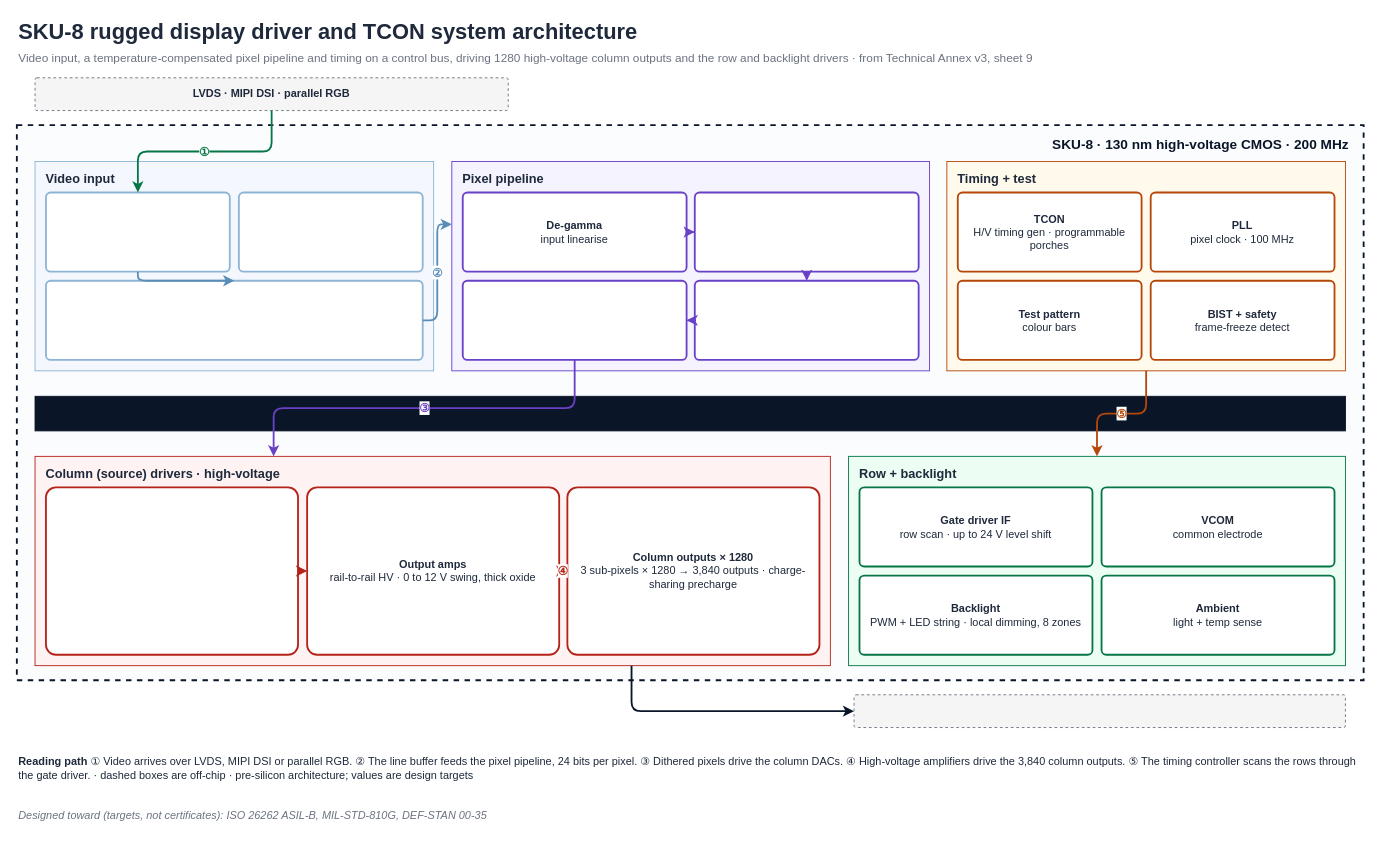
Image size: 1380x841. Some labels were removed from this diagram. The shapes that lost their labels are listed below. From the top down, each one's centre as x and y in pixels, then its label:
(137,231): LVDS RX dual link · 655 Mbps per lane · SXGA 1280 × 1024 @ 60 Hz
(330,231): DSI RX four-lane MIPI DSI
(806,231): Colour 3 × 3 matrix + WP
(234,319): Line buffer dual-port SRAM · 4 lines × 1280 × 24 bit
(574,319): Dither temporal + spatial
(806,319): Gamma LUT 14-bit table · temperature feedback
(689,413): Control bus · SPI / I²C register file · 200 MHz
(171,570): DAC bank 10-bit, 1 per column · resistor-string + buffer
(1099,711): To the panel · source / gate / VCOM / LED
